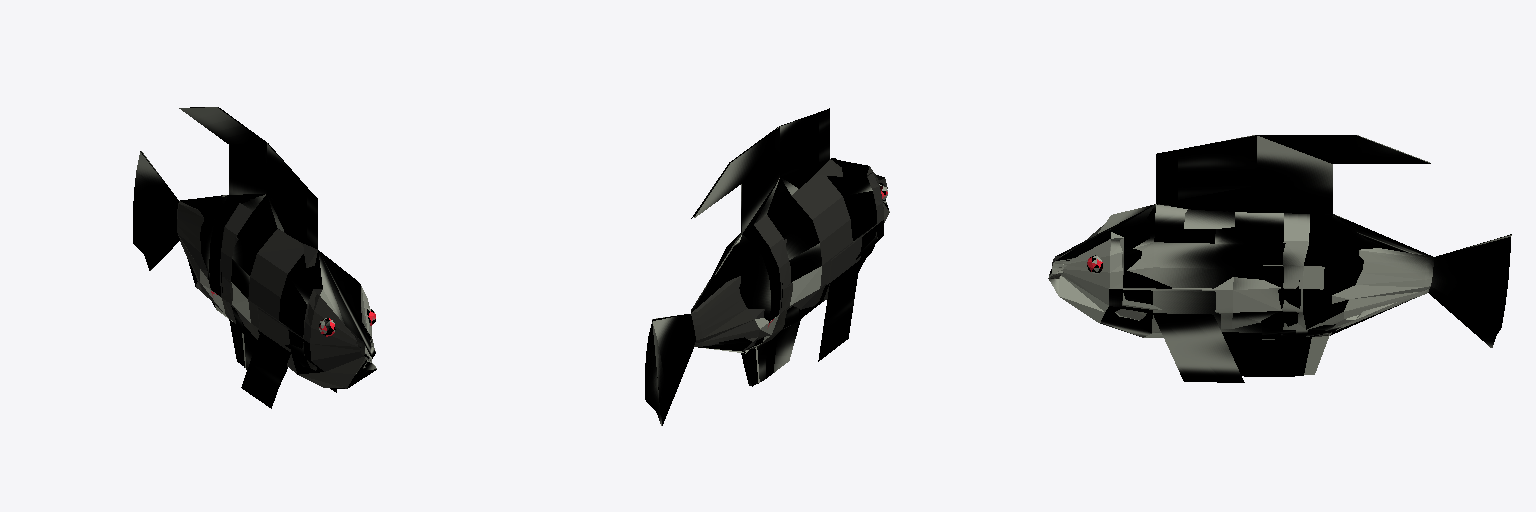
3 renders of one model, left to right at view 1: azimuth 30°, elevation 25°; view 2: azimuth 150°, elevation 25°; view 3: azimuth 270°, elevation 25°, orthographic.
Parts seen in each view (by area): view 1: Plane; view 2: Plane; view 3: Plane.
Part boxes in pixels (x1,y1,x2,y2): Plane: (133, 107, 376, 408); Plane: (645, 108, 889, 425); Plane: (1048, 135, 1511, 382).
Size of the model in its own units: 1.36 by 4.85 by 8.4.
Materials: 2 (1 with a texture image).